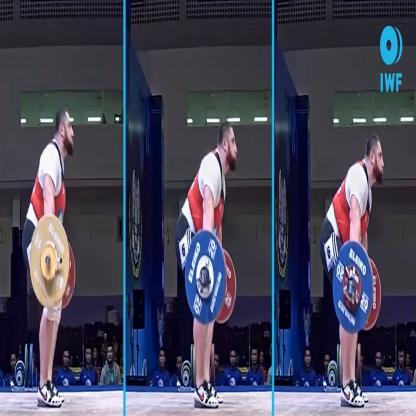Barbell: (346, 279, 358, 302), (201, 270, 210, 287), (46, 255, 53, 270)
